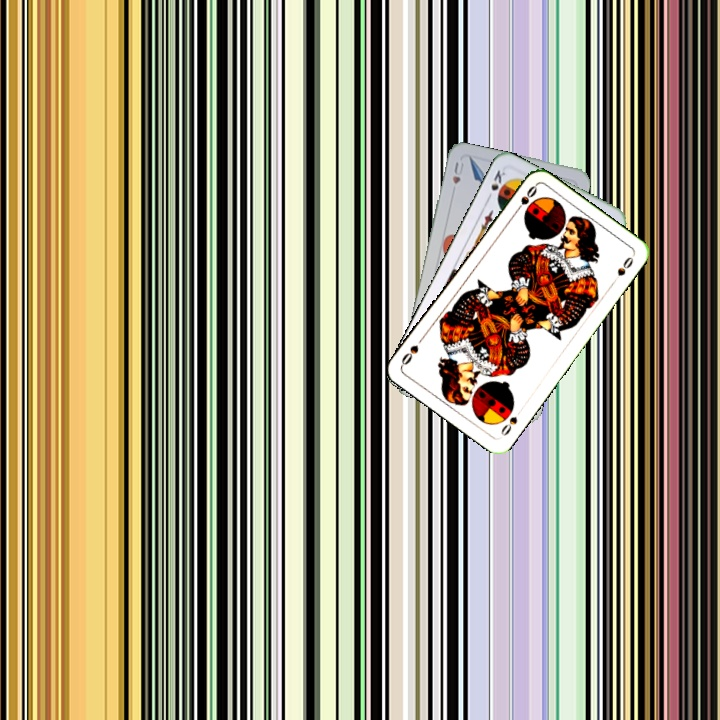HU: (448, 158, 466, 187)
SK: (483, 166, 508, 203)
SO: (510, 181, 540, 217), (497, 405, 525, 439)
